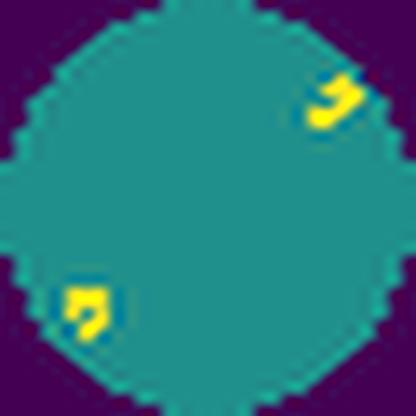Loc: (302, 70, 368, 136), (58, 282, 117, 346)
